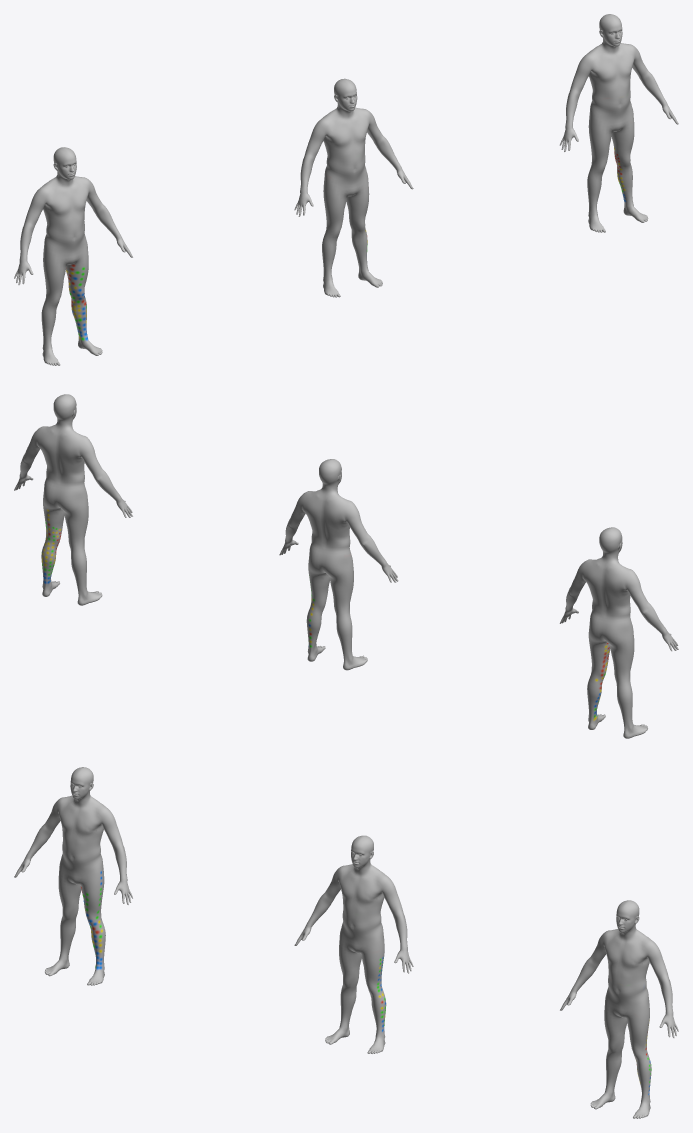
File: 1135018-all.gltf
3 views of the same model, one above another, from view 1: azimuth 30°, elevation 25°; view 2: azimuth 150°, elevation 25°; view 3: azimuth 330°, elevation 25° (orthographic).
Parts seen in each view (by area): view 1: Male 68in 160lbs-A-pose.002, Male 68in 160lbs-A-pose, Male 68in 160lbs-A-pose.001; view 2: Male 68in 160lbs-A-pose.001, Male 68in 160lbs-A-pose.002, Male 68in 160lbs-A-pose; view 3: Male 68in 160lbs-A-pose.002, Male 68in 160lbs-A-pose.001, Male 68in 160lbs-A-pose.
Boxes of the visible parts, box(x1,y1,x2,y2) form: Male 68in 160lbs-A-pose.002: box(14, 147, 132, 365); Male 68in 160lbs-A-pose: box(294, 78, 413, 297); Male 68in 160lbs-A-pose.001: box(559, 14, 678, 232); Male 68in 160lbs-A-pose.001: box(14, 394, 132, 605); Male 68in 160lbs-A-pose.002: box(559, 527, 678, 738); Male 68in 160lbs-A-pose: box(279, 459, 398, 670); Male 68in 160lbs-A-pose.002: box(14, 767, 132, 985); Male 68in 160lbs-A-pose.001: box(560, 900, 678, 1118); Male 68in 160lbs-A-pose: box(294, 835, 413, 1053).
Bounding box in the file's own units: 24.84 × 7.33 × 1.47.
3 materials, 3 textured.
